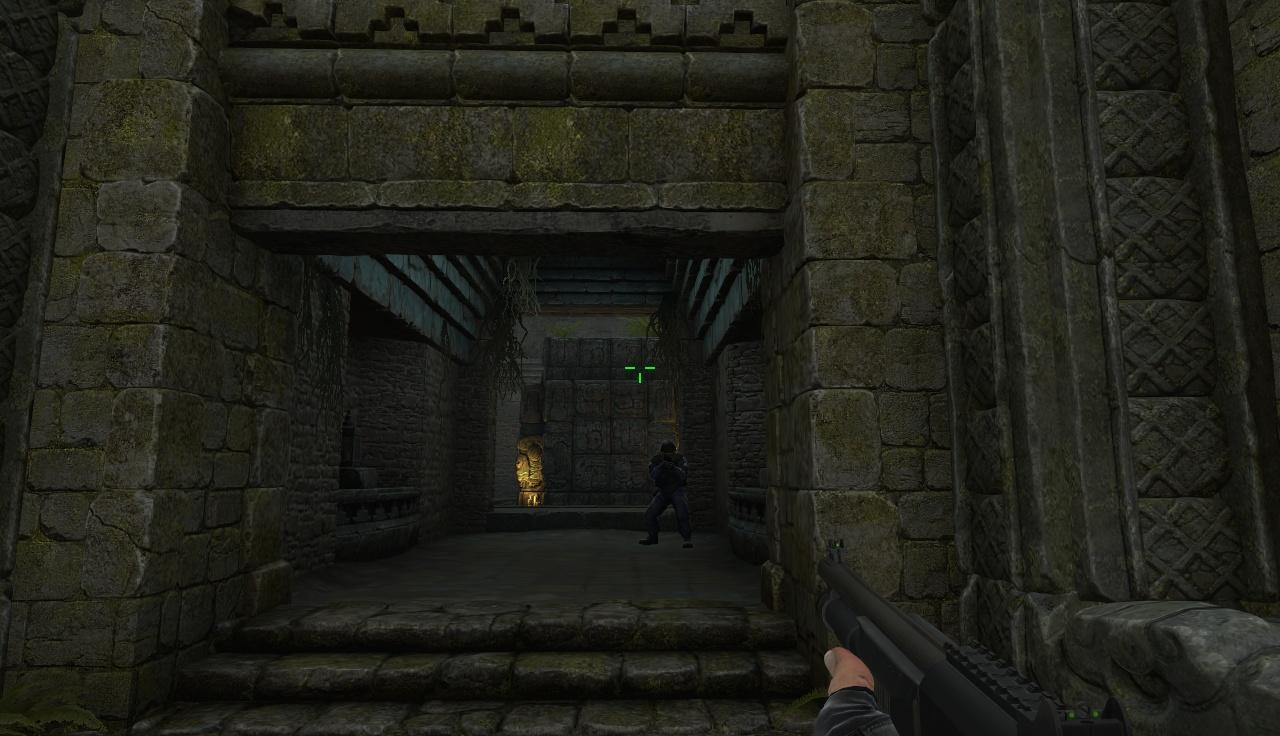ct: (649, 439, 687, 550)
cthead: (659, 440, 675, 459)
rifle: (802, 540, 1145, 736)
